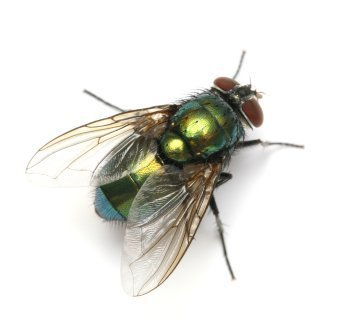fly: (23, 53, 311, 293)
